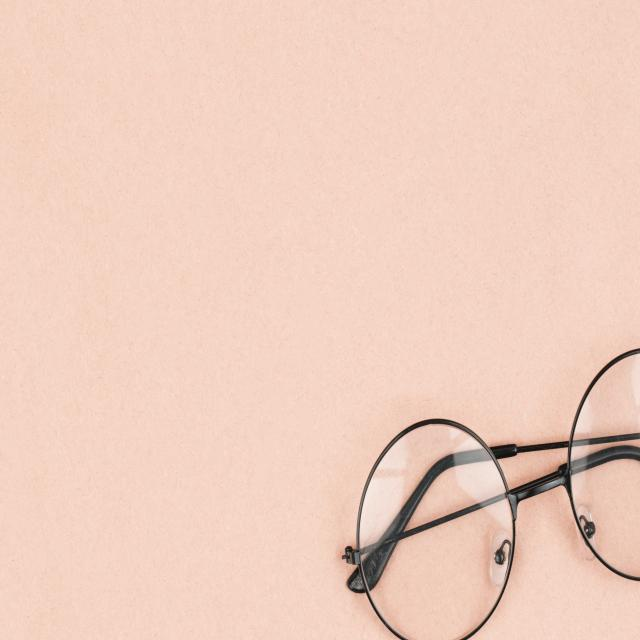Glass: (356, 423, 516, 640), (565, 339, 640, 593)
